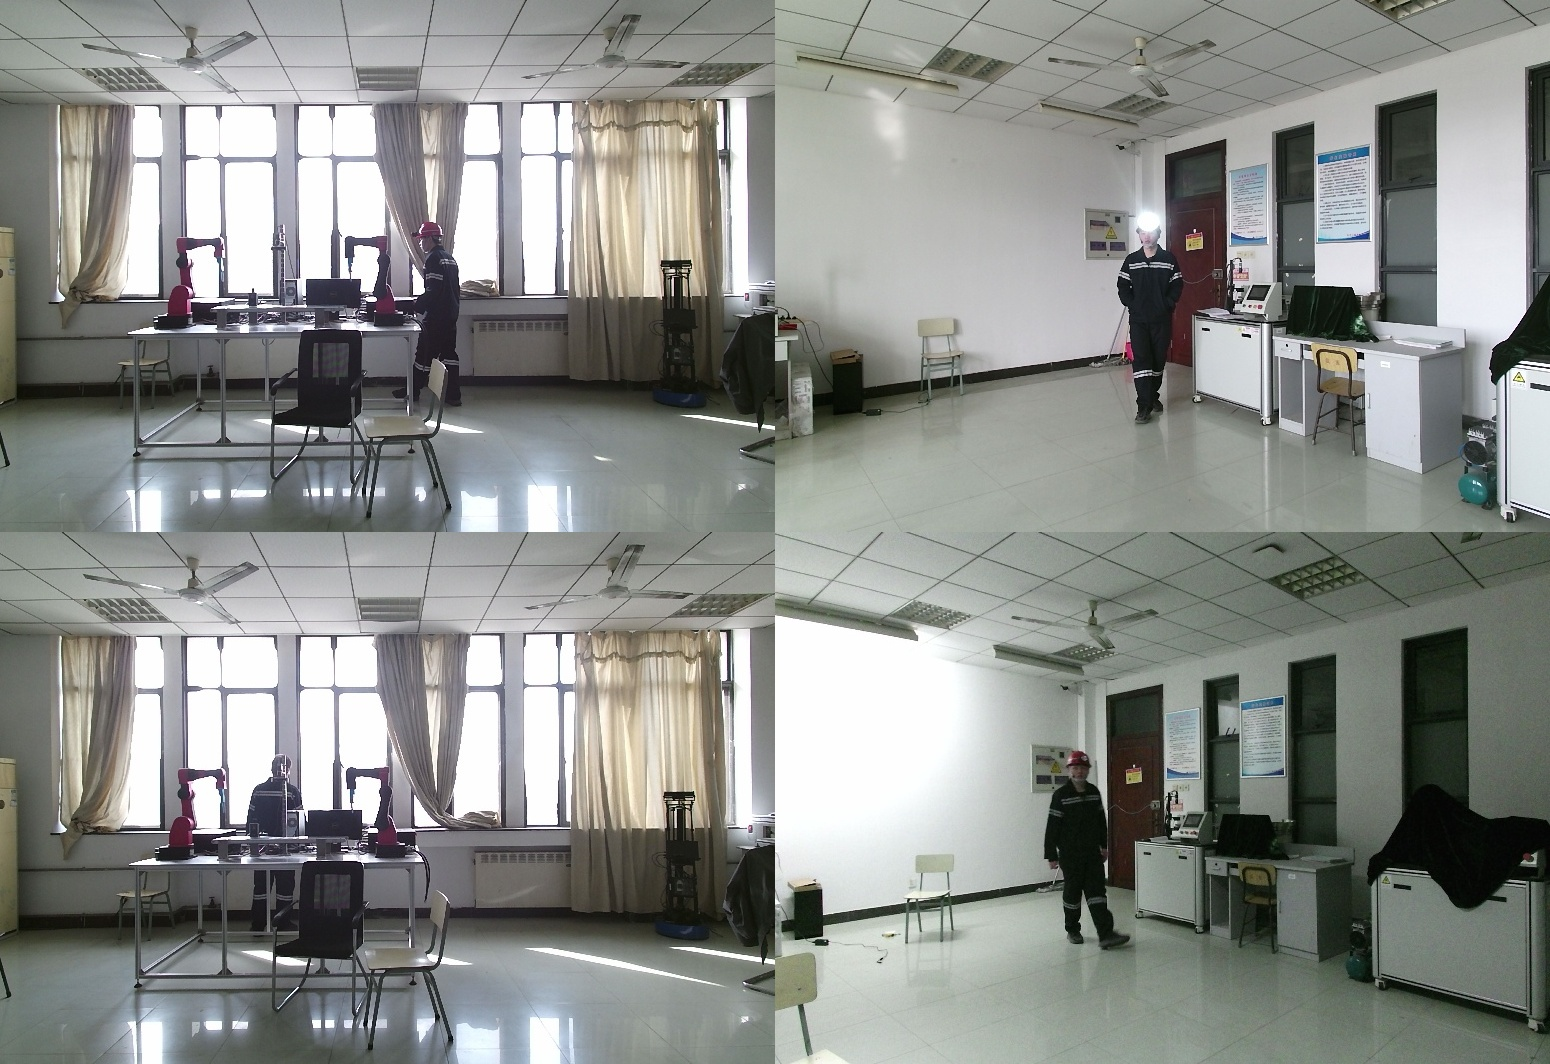person: (1040, 753, 1133, 953), (1114, 221, 1189, 429), (396, 224, 469, 409), (247, 756, 314, 948)
